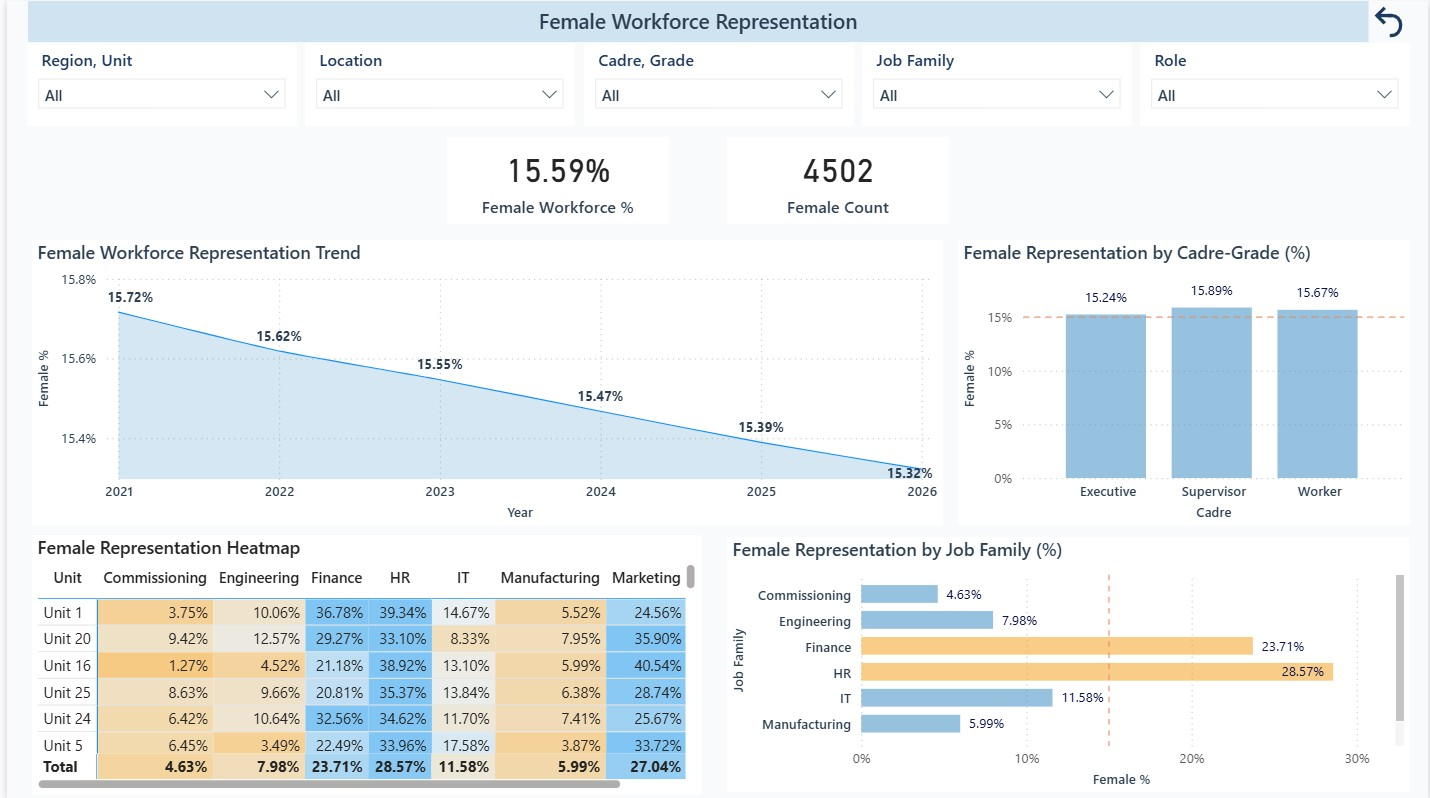

Layout of this report page (visuals, bound fields, positions):
{"tool":"powerbi","page":{"name":"Female Workforce Representation","canvas":[1280,720],"ordinal":1},"visuals":[{"type":"textbox","box":[18.7,0,1207.6,37.5],"z":0},{"type":"slicer","fields":{"Values":["DIM_Unit_Master.Region","DIM_Unit_Master.Unit"]},"box":[18.2,37.6,243,75.1],"z":0,"group":"g1"},{"type":"card","fields":{"Values":["PR_DIV_FACT_EMPLOYEE_MASTER.Female Ratio"]},"box":[396.1,123,200,77.8],"z":0,"group":"g2"},{"type":"group","id":"g1","title":"Group 1","box":[18.2,37.6,1244.6,75.1],"z":1000},{"type":"slicer","fields":{"Values":["DIM_Location_Master.Location"]},"box":[269,37.6,243,75.1],"z":1000,"group":"g1"},{"type":"card","fields":{"Values":["PR_DIV_FACT_EMPLOYEE_MASTER.Female Count"]},"box":[648.2,123,200,77.8],"z":1000,"group":"g2"},{"type":"actionButton","box":[1226.3,0,37.5,37.5],"z":2000},{"type":"slicer","fields":{"Values":["DIM_Grade_Master.Cadre","DIM_Grade_Master.Grade"]},"box":[519.8,37.6,243,75.1],"z":2000,"group":"g1"},{"type":"slicer","fields":{"Values":["DIM_Job_Master.Job Family"]},"box":[770.6,37.6,243,75.1],"z":3000,"group":"g1"},{"type":"lineStackedColumnComboChart","title":"Female Representation by Cadre-Grade (%)","fields":{"Category":["DIM_Grade_Master.Cadre"],"Y":["PR_DIV_FACT_EMPLOYEE_MASTER.Female Ratio"]},"box":[856.6,215.4,407.3,257.5],"z":3000},{"type":"slicer","fields":{"Values":["DIM_Role_Master.Role"]},"box":[1021.4,37.6,243,75.1],"z":4000,"group":"g1"},{"type":"lineChart","title":"Female Workforce Representation Trend","fields":{"Category":["DIM_DATE_TABLE.Date Hierarchy.Year"],"Y":["DIM_DATE_TABLE.Female Ratio as on Date"]},"box":[22.3,215.4,820.7,257.5],"z":4000},{"type":"barChart","title":"Female Representation by Job Family (%)","fields":{"Y":["PR_DIV_FACT_EMPLOYEE_MASTER.Female Ratio"],"Category":["DIM_Job_Master.Job Family"]},"box":[648.7,482.8,615.2,230.3],"z":5000},{"type":"group","id":"g2","title":"Group 3","box":[396.1,123,452.5,77.6],"z":6000},{"type":"pivotTable","title":"Female Representation Heatmap","fields":{"Rows":["DIM_Unit_Master.Unit"],"Columns":["DIM_Job_Master.Job Family"],"Values":["PR_DIV_FACT_EMPLOYEE_MASTER.Female %"]},"box":[22.7,480.8,603.2,233.9],"z":7001}]}

Visuals, with their boxes in screenshot pixels (x1, y1, x2, y2), scaled from the page's 1280x720 canvas onto the 1430x798 screenshot:
textbox: 21/0/1370/42
slicer - DIM_Unit_Master.Region x DIM_Unit_Master.Unit: 20/42/292/125
card - PR_DIV_FACT_EMPLOYEE_MASTER.Female Ratio: 443/136/666/223
"Group 1" group: 20/42/1411/125
slicer - DIM_Location_Master.Location: 301/42/572/125
card - PR_DIV_FACT_EMPLOYEE_MASTER.Female Count: 724/136/948/223
actionButton: 1370/0/1412/42
slicer - DIM_Grade_Master.Cadre x DIM_Grade_Master.Grade: 581/42/852/125
slicer - DIM_Job_Master.Job Family: 861/42/1132/125
"Female Representation by Cadre-Grade (%)" lineStackedColumnComboChart: 957/239/1412/524
slicer - DIM_Role_Master.Role: 1141/42/1413/125
"Female Workforce Representation Trend" lineChart: 25/239/942/524
"Female Representation by Job Family (%)" barChart: 725/535/1412/790
"Group 3" group: 443/136/948/222
"Female Representation Heatmap" pivotTable: 25/533/699/792
